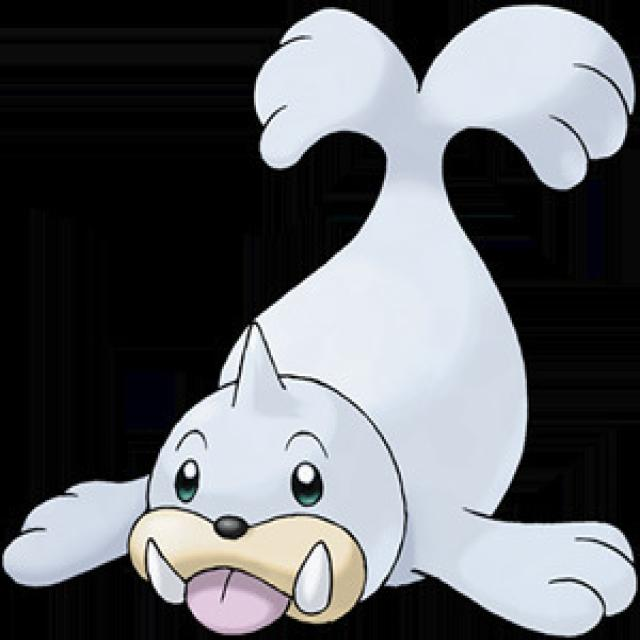Seel: (0, 3, 640, 637)
